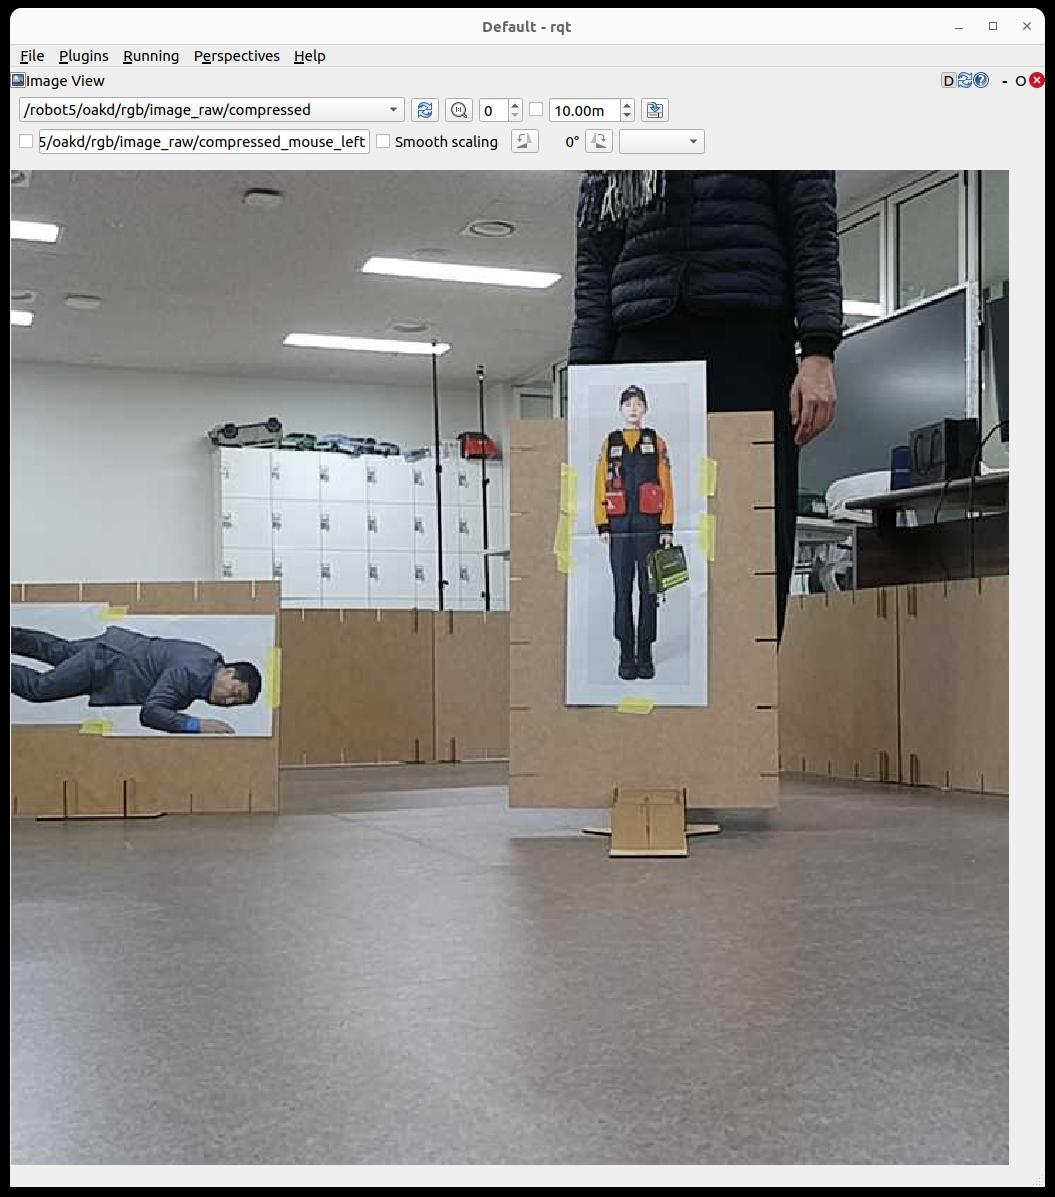Patient: (11, 626, 260, 733)
Responder: (594, 386, 675, 679)
